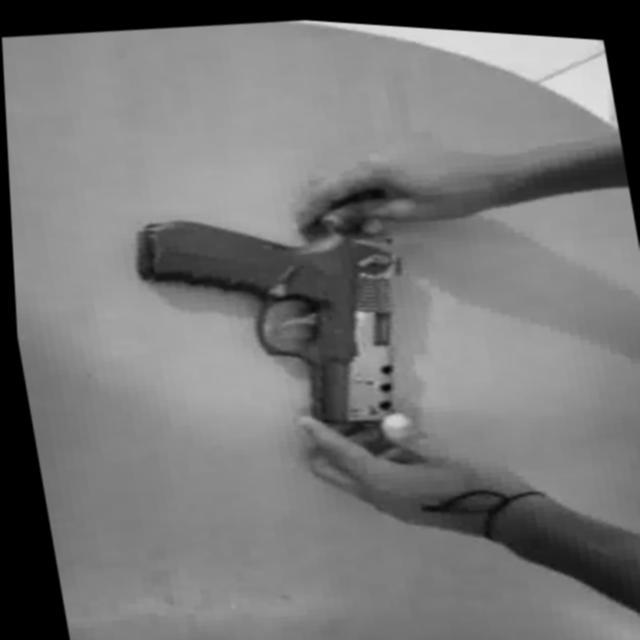weapon: (123, 186, 433, 488)
